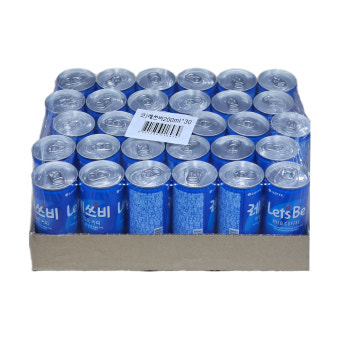paper: (30, 71, 316, 233)
